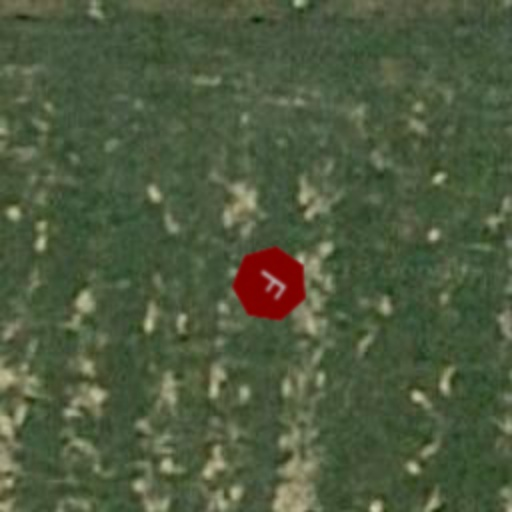heptagon: (216, 230, 324, 338)
